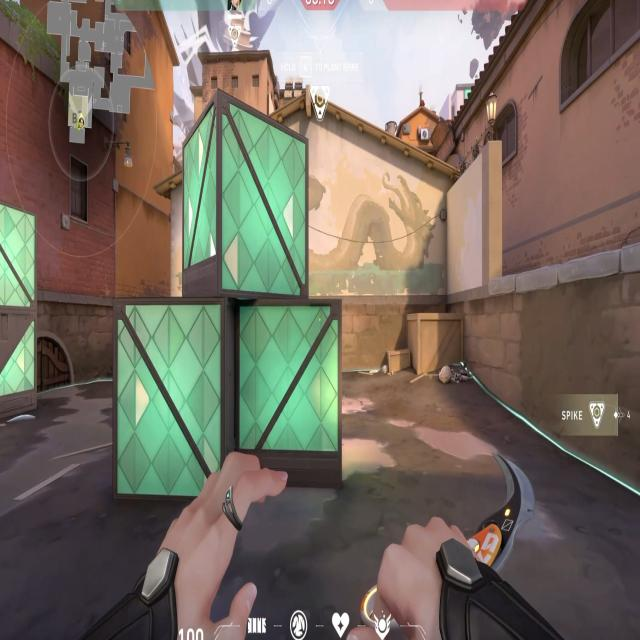B_Site_Box: (85, 54, 369, 522)
